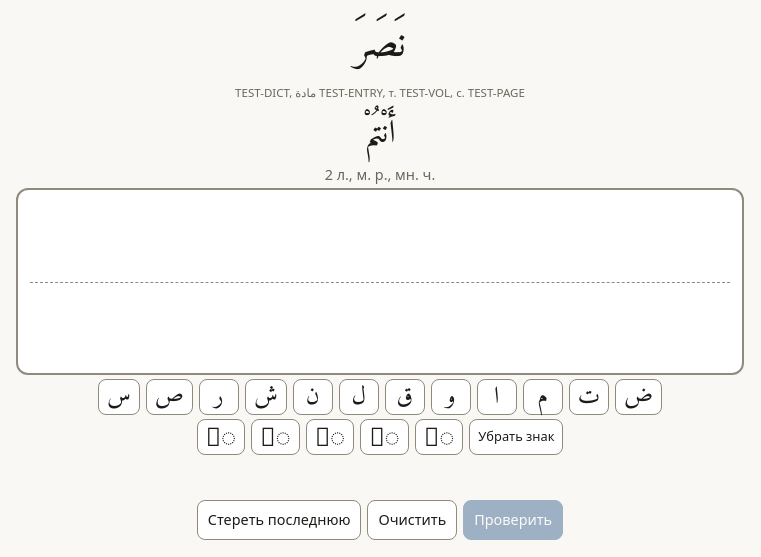
Test case: TrainerScreen: направление, выбор плитки, знаки › mark-kasra, mark-shadda и mark-clear
Click the button with test id "letter-ن".
click(313, 397)  # box [293,379,333,415]
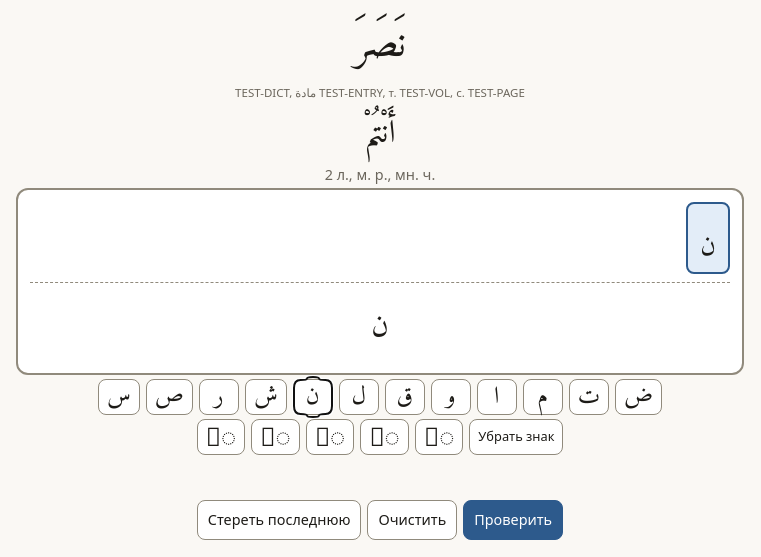
Click the button with test id "mark-kasra".
click(330, 437)  # box [306,419,354,455]
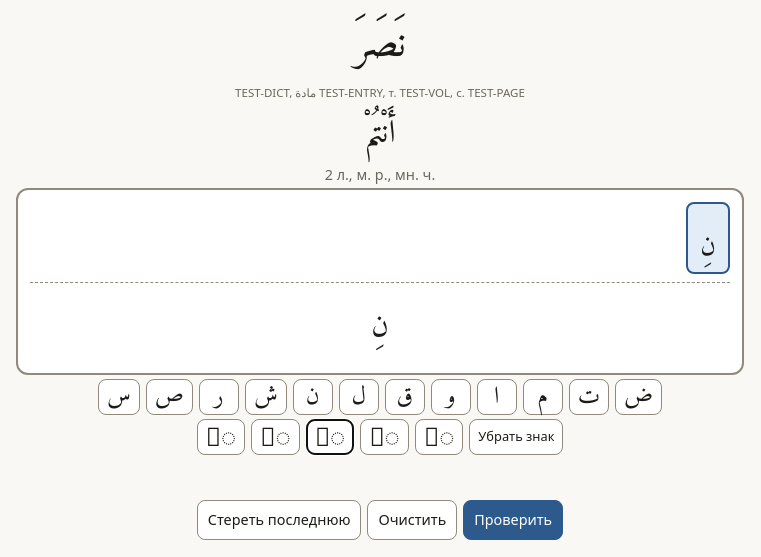
Click the button with test id "mark-shadda".
click(439, 437)  # box [415,419,463,455]
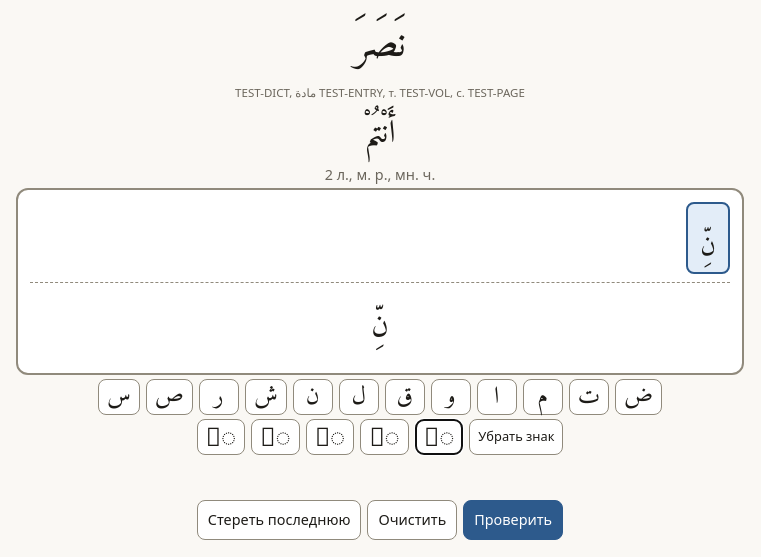
Click the button with test id "mark-clear".
click(516, 437)  # box [469,419,564,455]
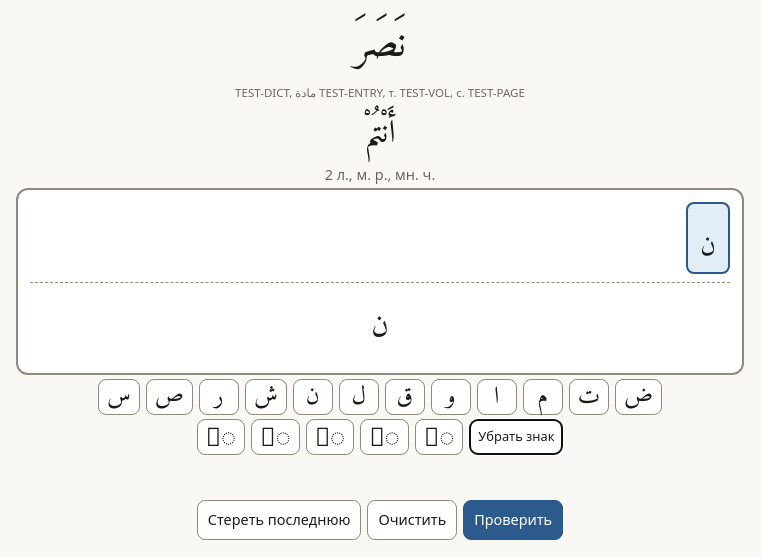
Check: the button with test id "tile" reads "ن", box [686,202,730,274]
